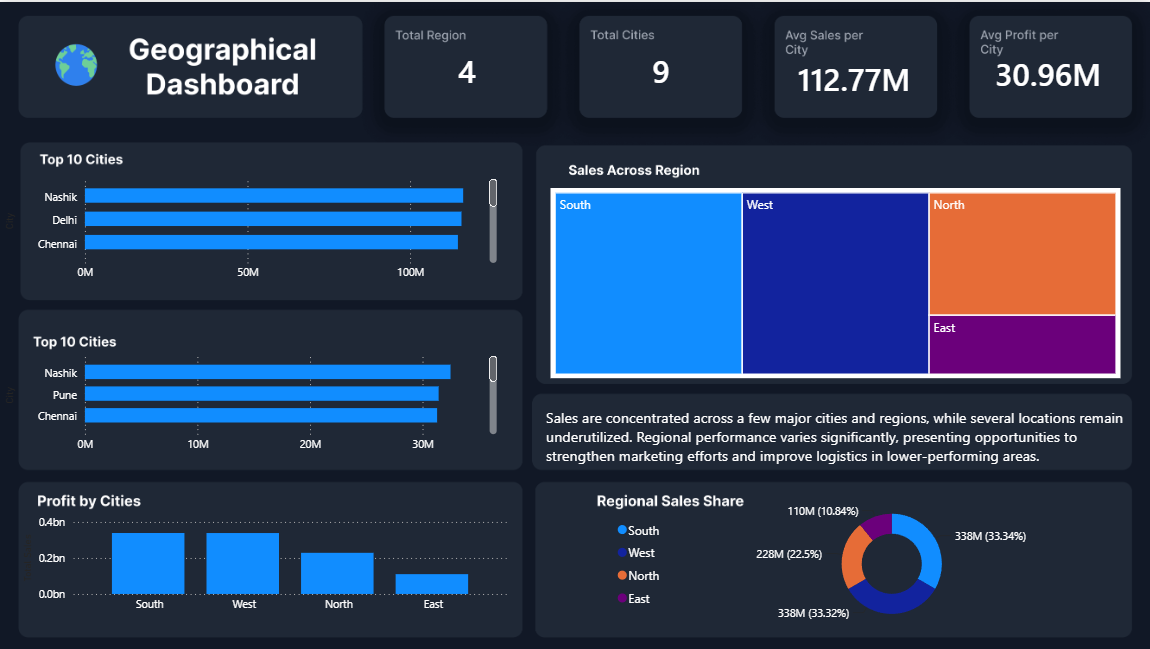

What the dashboard file says about the page in this screenshot:
{"tool":"powerbi","page":{"name":"Geography Analysis","canvas":[1280,720],"ordinal":4},"visuals":[{"type":"cardVisual","fields":{"Data":["Measures (3).Total Regions"]},"box":[438.3,25,161.7,100],"z":0},{"type":"cardVisual","fields":{"Data":["Measures (3).Total Cities"]},"box":[653.7,25.4,162.2,100.2],"z":1000},{"type":"clusteredBarChart","fields":{"Category":["Dataset.City"],"Y":["Measures (3).Total Sales"]},"box":[0,182.9,556.7,135.2],"z":2000},{"type":"treemap","fields":{"Group":["Dataset.Region"],"Values":["Measures (3).Total Sales"]},"box":[612.4,206.8,633.1,211.6],"z":3000},{"type":"barChart","fields":{"Category":["Dataset.City"],"Y":["Measures (3).Total Profit"]},"box":[0,380.2,556.7,128.8],"z":4000},{"type":"clusteredColumnChart","fields":{"Category":["Dataset.Region"],"Y":["Measures (3).Total Sales"]},"box":[20.7,563.1,550.4,124.1],"z":5000},{"type":"donutChart","fields":{"Category":["Dataset.Region"],"Y":["Measures (3).Total Sales"]},"box":[680.8,548.8,564.7,151.1],"z":6000},{"type":"cardVisual","fields":{"Data":["Measures (3).Average Profit per City"]},"box":[1076.8,28.6,176.6,100.2],"z":7000},{"type":"cardVisual","fields":{"Data":["Measures (3).Average Sales per City"]},"box":[846.2,33.4,205.2,100.2],"z":8000},{"type":"textbox","box":[601.3,445.4,652.2,77.9],"z":9000}]}

Visuals, with their boxes in screenshot pixels (x1, y1, x2, y2), scaled from the page's 1280x720 canvas onto the 1150x649 screenshot:
cardVisual - Measures (3).Total Regions: x1=394, y1=23, x2=539, y2=113
cardVisual - Measures (3).Total Cities: x1=587, y1=23, x2=733, y2=113
clusteredBarChart - Dataset.City x Measures (3).Total Sales: x1=0, y1=165, x2=500, y2=287
treemap - Dataset.Region x Measures (3).Total Sales: x1=550, y1=186, x2=1119, y2=377
barChart - Dataset.City x Measures (3).Total Profit: x1=0, y1=343, x2=500, y2=459
clusteredColumnChart - Dataset.Region x Measures (3).Total Sales: x1=19, y1=508, x2=513, y2=619
donutChart - Dataset.Region x Measures (3).Total Sales: x1=612, y1=495, x2=1119, y2=631
cardVisual - Measures (3).Average Profit per City: x1=967, y1=26, x2=1126, y2=116
cardVisual - Measures (3).Average Sales per City: x1=760, y1=30, x2=945, y2=120
textbox: x1=540, y1=401, x2=1126, y2=472
